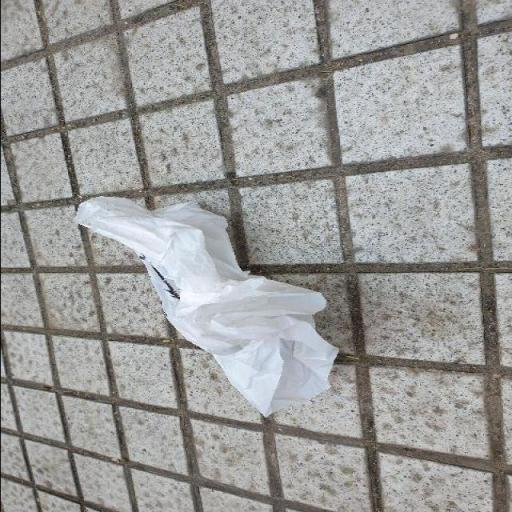plastic-bag: (72, 196, 346, 420)
